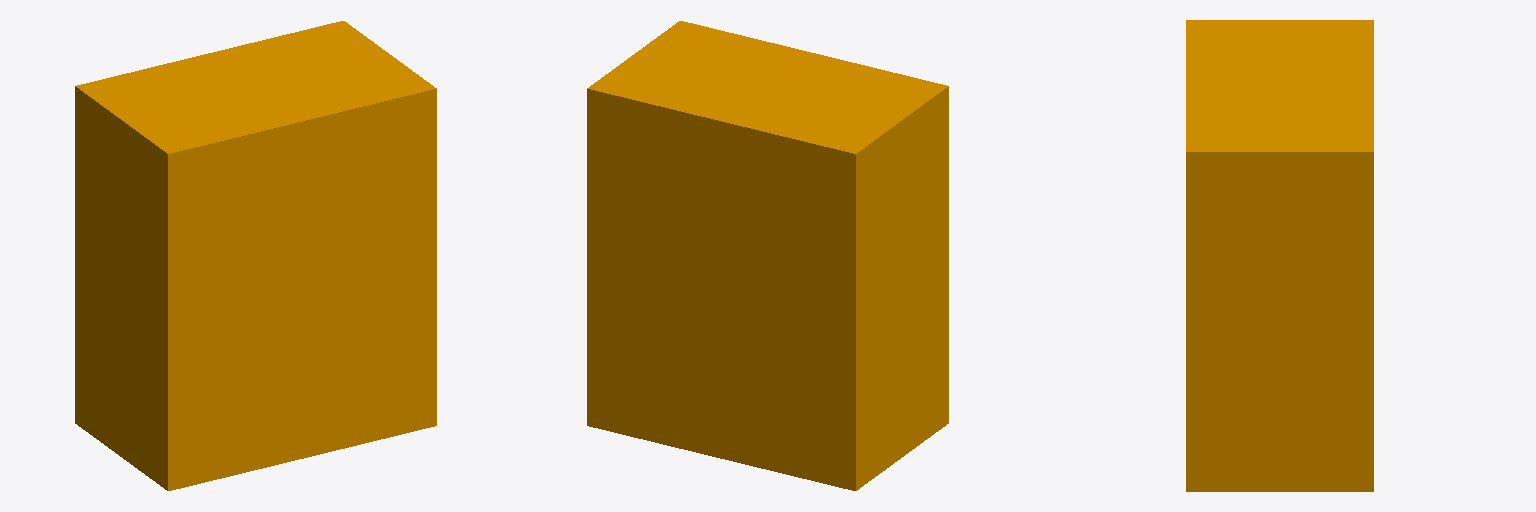
URDF robot description (object):
<?xml version="0.0"?>
	<robot name="object">
		<link name="object">
			<visual>
				<origin xyz="0 0 0"/>
				<geometry>
					<box size="0.5 0.3 0.6"/>
				</geometry>
			</visual>
			<inertial>
				<mass value="9.000"/>
			</inertial>
			<collision>
				<origin xyz="0 0 0"/>
				<geometry>
					<box size="0.5 0.3 0.6"/>
				</geometry>
			</collision>
		</link>

	</robot>

--- What the picture shows (computed from the rendered views, not written in the file) ---
Views: 3 orthographic renders of the robot side by side, from view 1: azimuth 30°, elevation 25°; view 2: azimuth 150°, elevation 25°; view 3: azimuth 270°, elevation 25°.
Model object with 1 links and 0 joints (none), rooted at object, posed every joint at zero.
Visible links, largest first — view 1: object; view 2: object; view 3: object.
Boxes of the visible links, x1=… form: object: x1=75, y1=21, x2=436, y2=490; object: x1=587, y1=21, x2=948, y2=490; object: x1=1186, y1=20, x2=1373, y2=491.
Bounding box of the posed robot: 0.5 × 0.3 × 0.6 m (x, y, z).
Geometry: primitives only (box / cylinder / sphere), no mesh files.